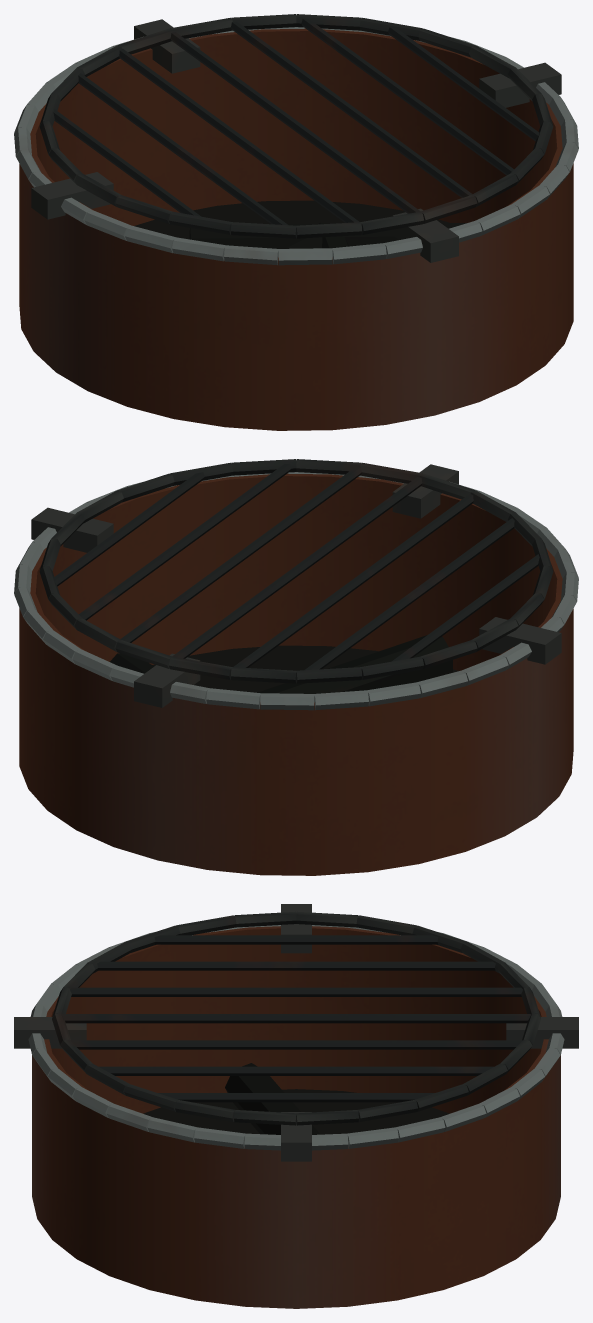
File: level_camp_fire_ring_authored.glb
3 renders of one model, top to bottom at view 1: azimuth 30°, elevation 25°; view 2: azimuth 150°, elevation 25°; view 3: azimuth 270°, elevation 25°, orthographic. The views are drawn at different scales.
Parts seen in each view (by area): view 1: level_camp_fire_ring_authored; view 2: level_camp_fire_ring_authored; view 3: level_camp_fire_ring_authored.
Part boxes in pixels (bbox=[...]): level_camp_fire_ring_authored: bbox=[14, 14, 578, 430]; level_camp_fire_ring_authored: bbox=[14, 459, 578, 875]; level_camp_fire_ring_authored: bbox=[14, 904, 578, 1308].
Size of the model in its own units: 1.09 by 0.3904 by 1.09.
1 material, 1 textured.
